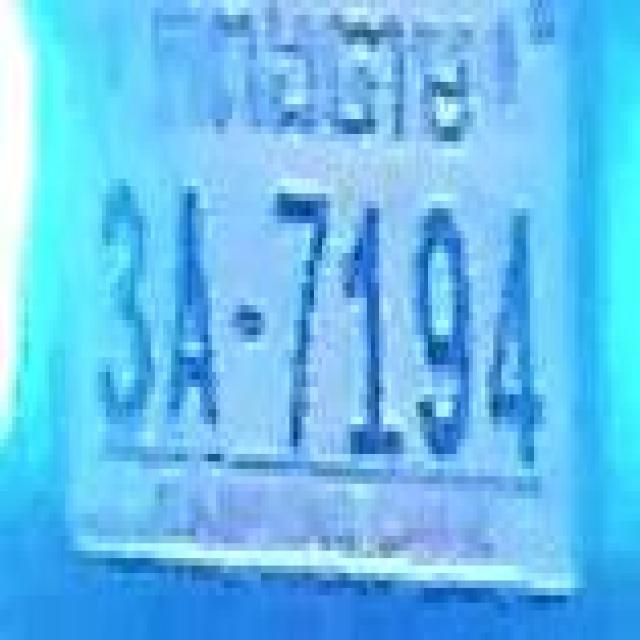Kampong_Cham: (151, 7, 480, 152)
